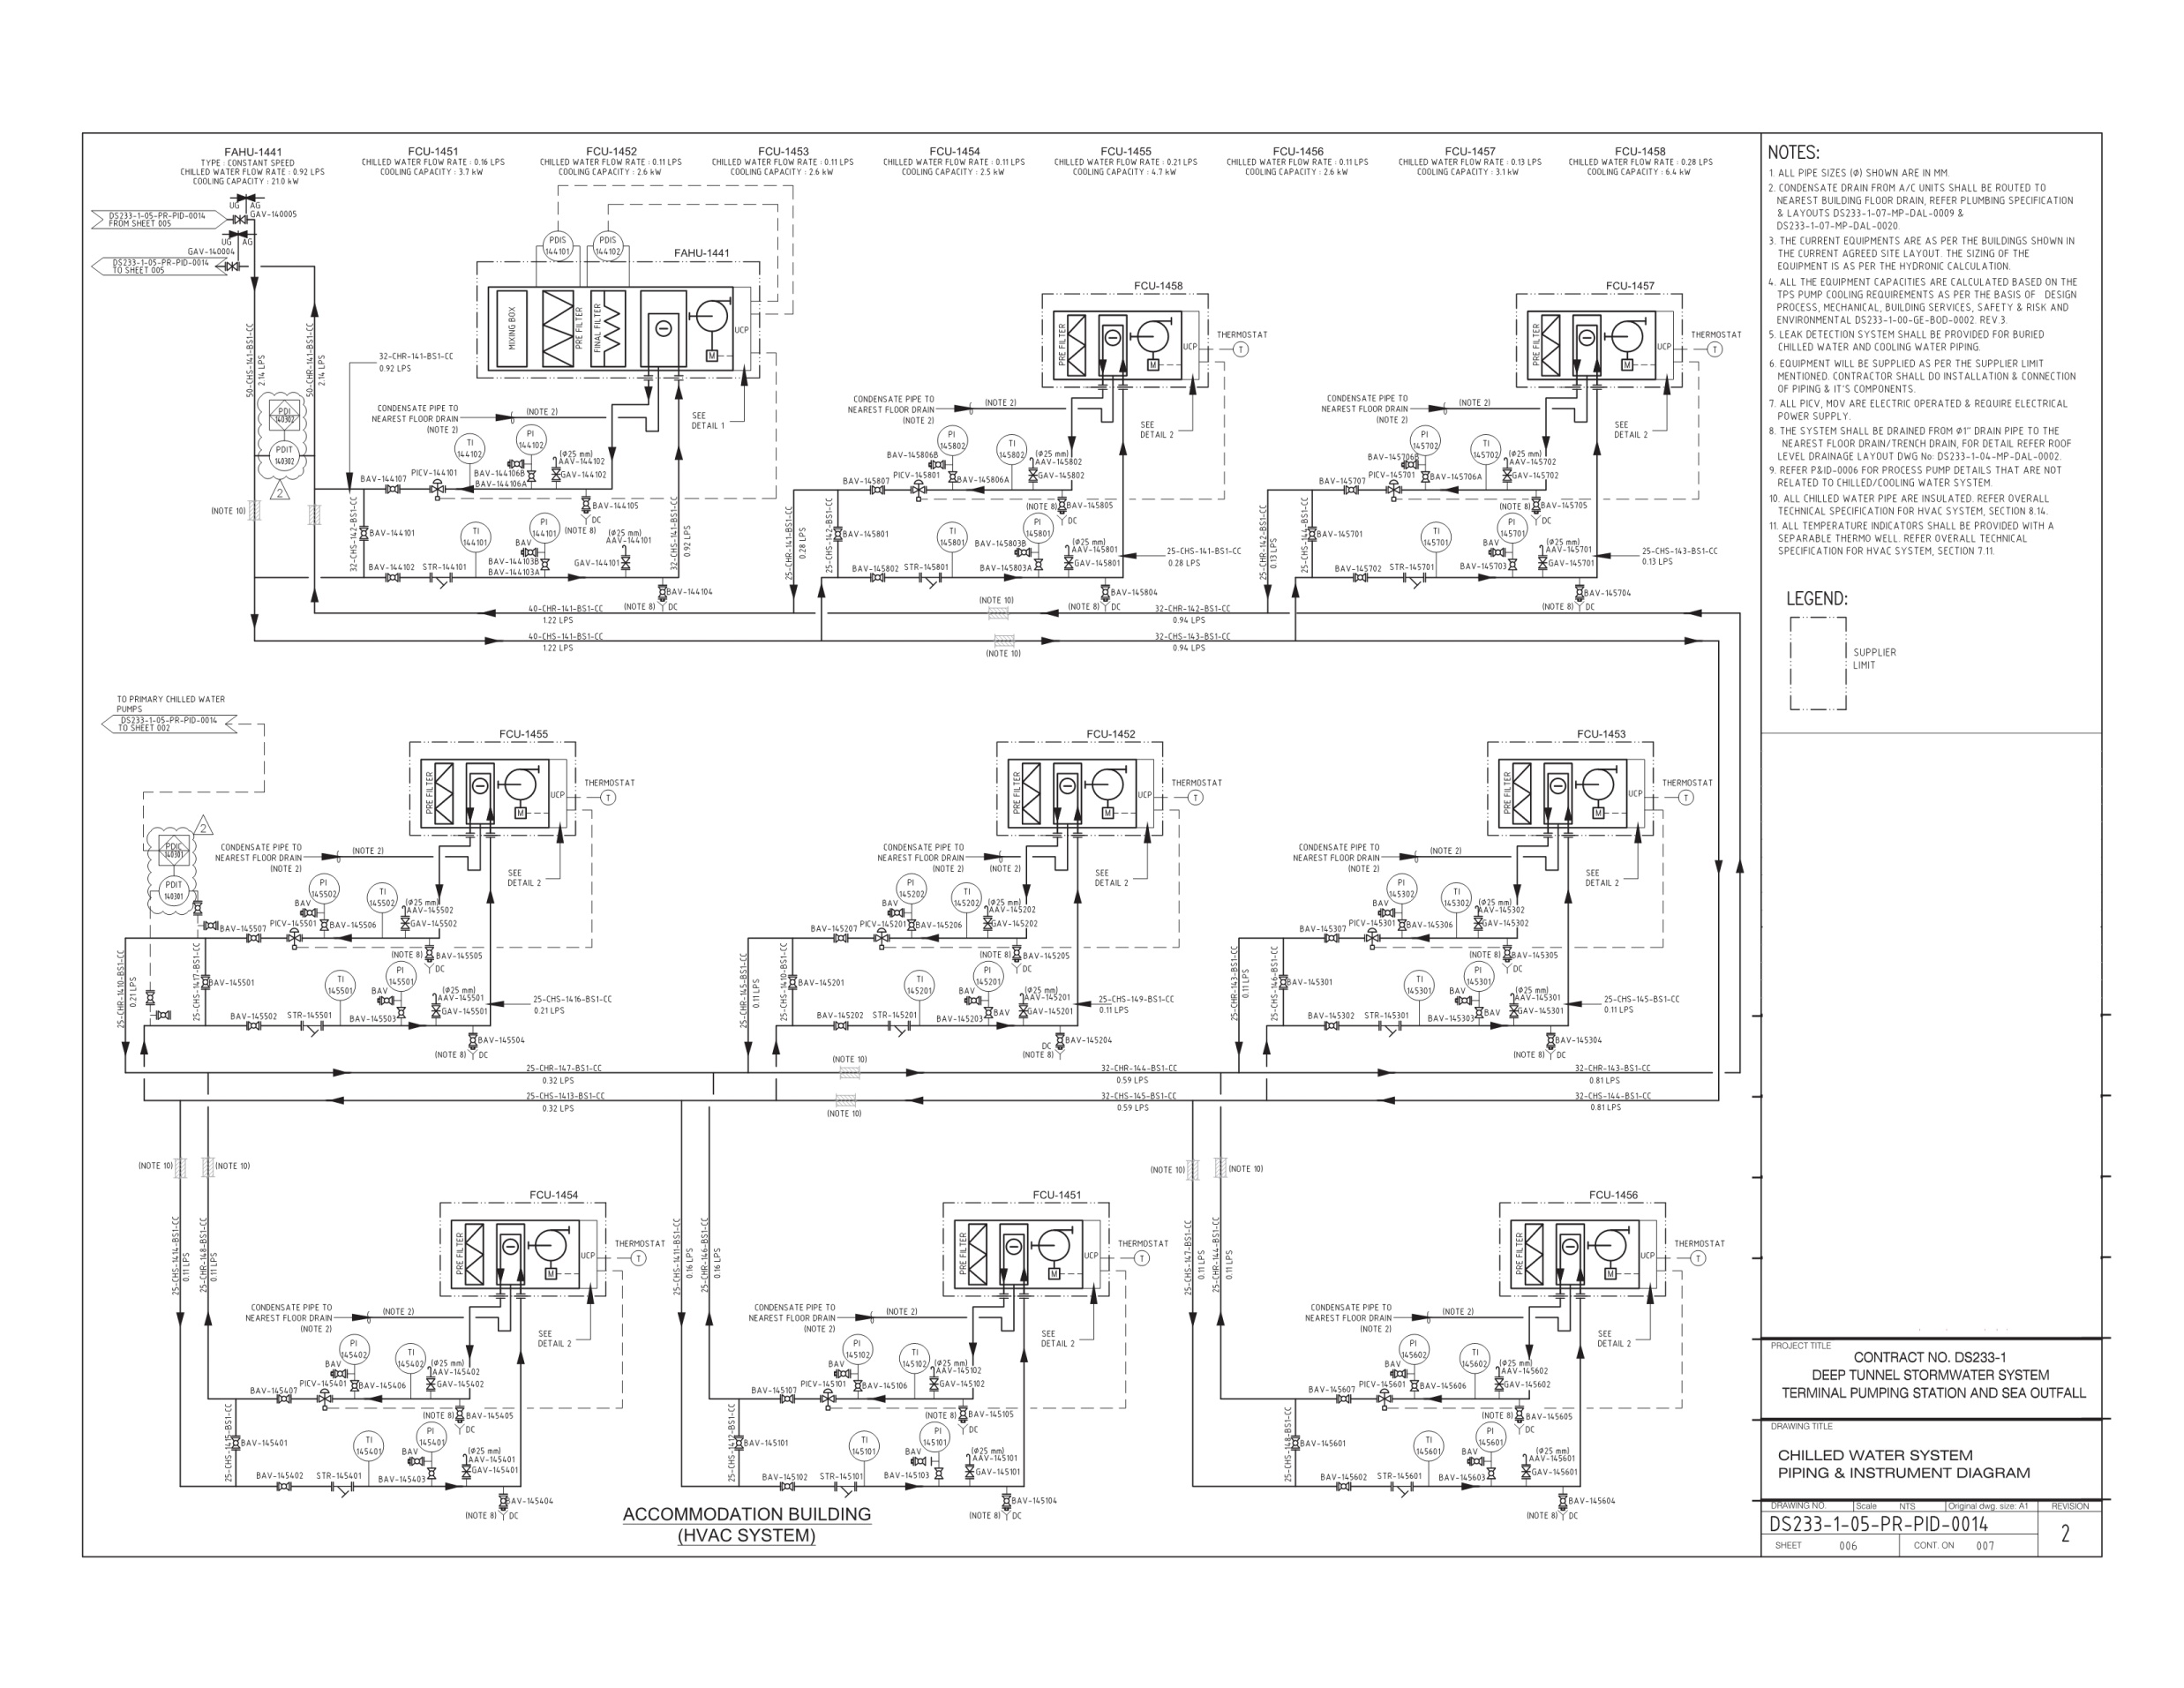Inlinel Instrument: (452, 431, 486, 465), (542, 229, 576, 262), (459, 520, 493, 553), (514, 424, 548, 457), (528, 511, 562, 544), (268, 438, 301, 472), (936, 521, 970, 555), (1021, 512, 1055, 546), (995, 433, 1028, 466), (936, 424, 970, 457), (1408, 422, 1441, 456), (1468, 433, 1502, 466), (1418, 521, 1452, 555), (1496, 511, 1530, 544), (1439, 881, 1473, 915), (1386, 872, 1420, 906), (1402, 968, 1436, 1002), (1463, 959, 1496, 993), (902, 968, 936, 1002), (950, 881, 984, 915), (895, 871, 929, 904), (308, 872, 342, 906), (365, 883, 399, 917), (324, 968, 358, 1002), (385, 959, 418, 993), (158, 874, 191, 908), (337, 1332, 370, 1365), (394, 1342, 427, 1376), (353, 1429, 386, 1463), (415, 1418, 449, 1452), (842, 1333, 876, 1367), (897, 1342, 931, 1376), (847, 1429, 881, 1463), (918, 1420, 952, 1454), (1457, 1342, 1491, 1376), (1399, 1333, 1432, 1367), (1411, 1429, 1445, 1463), (1475, 1420, 1509, 1454), (973, 959, 1005, 993)
